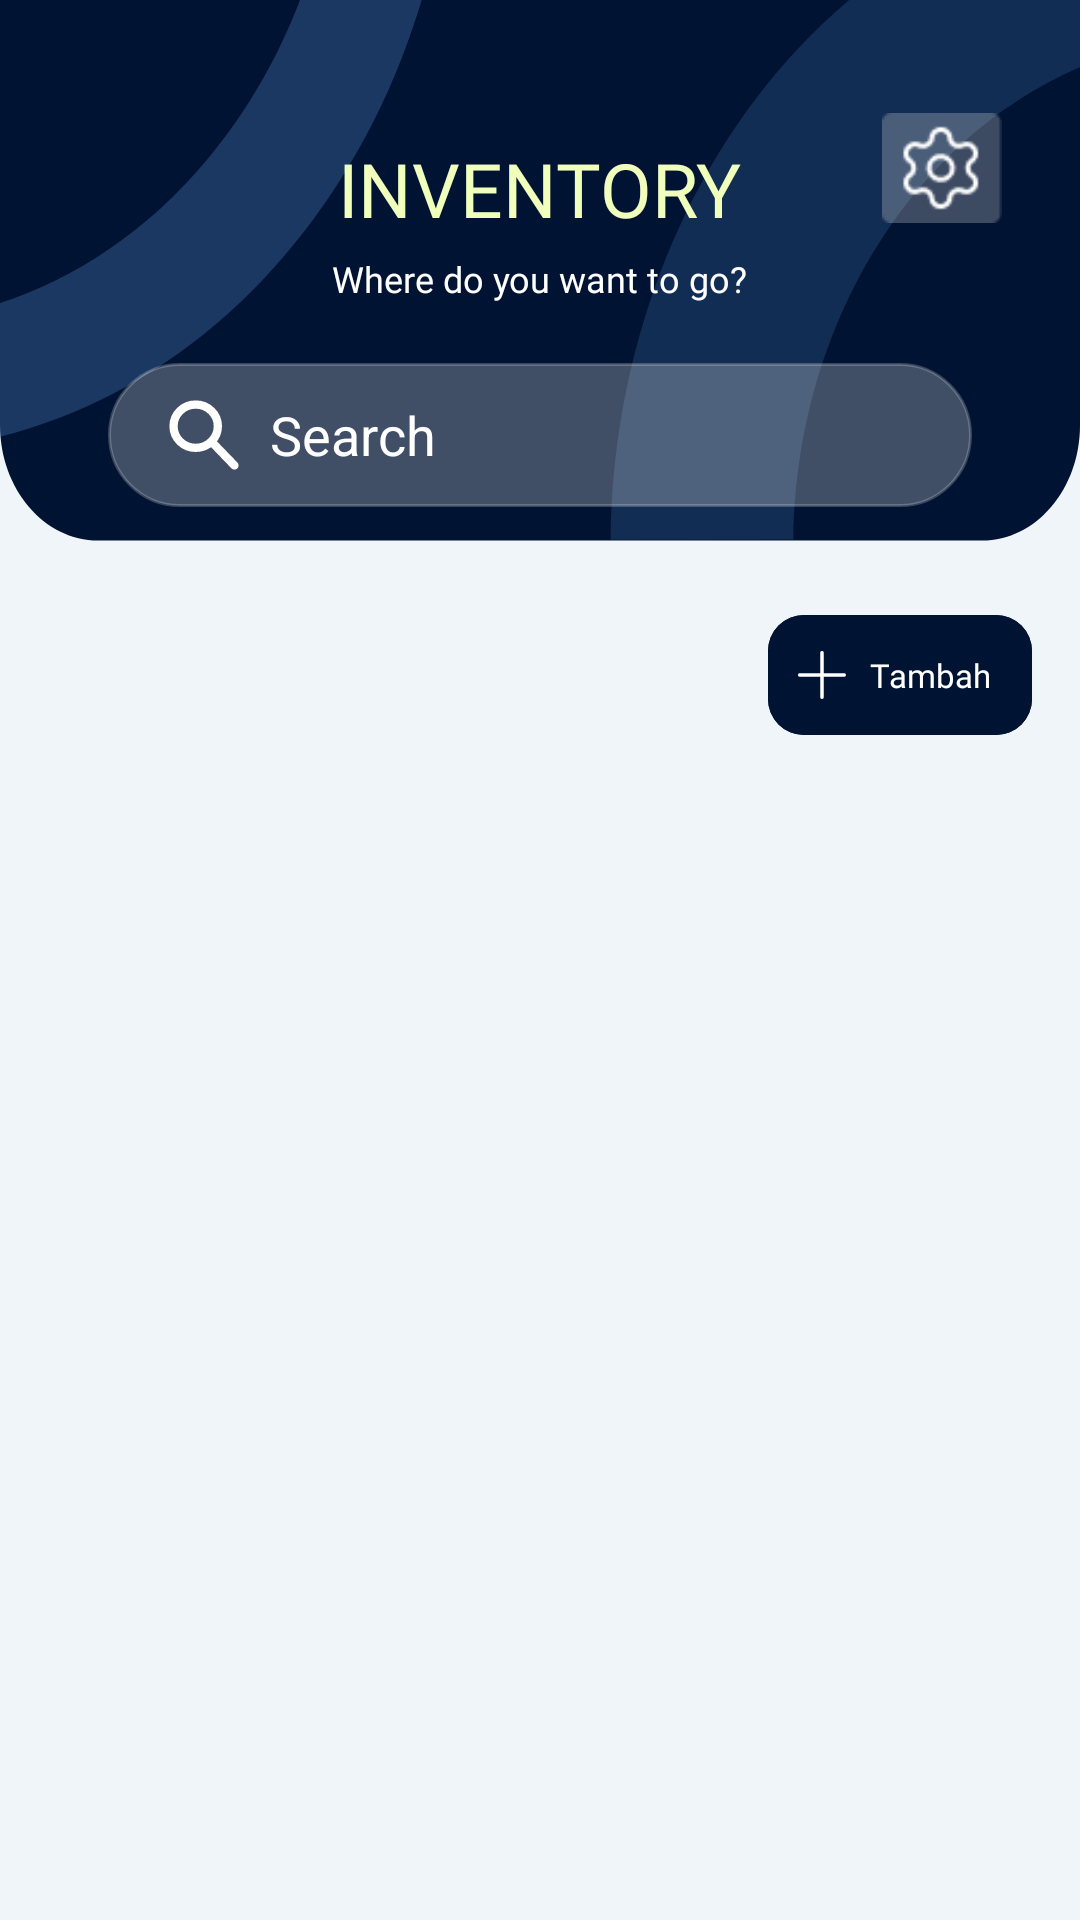

Icon click points for this 1080px×1920px phone screenshot, format (x=x, y=y):
setting: (x=942, y=168)
